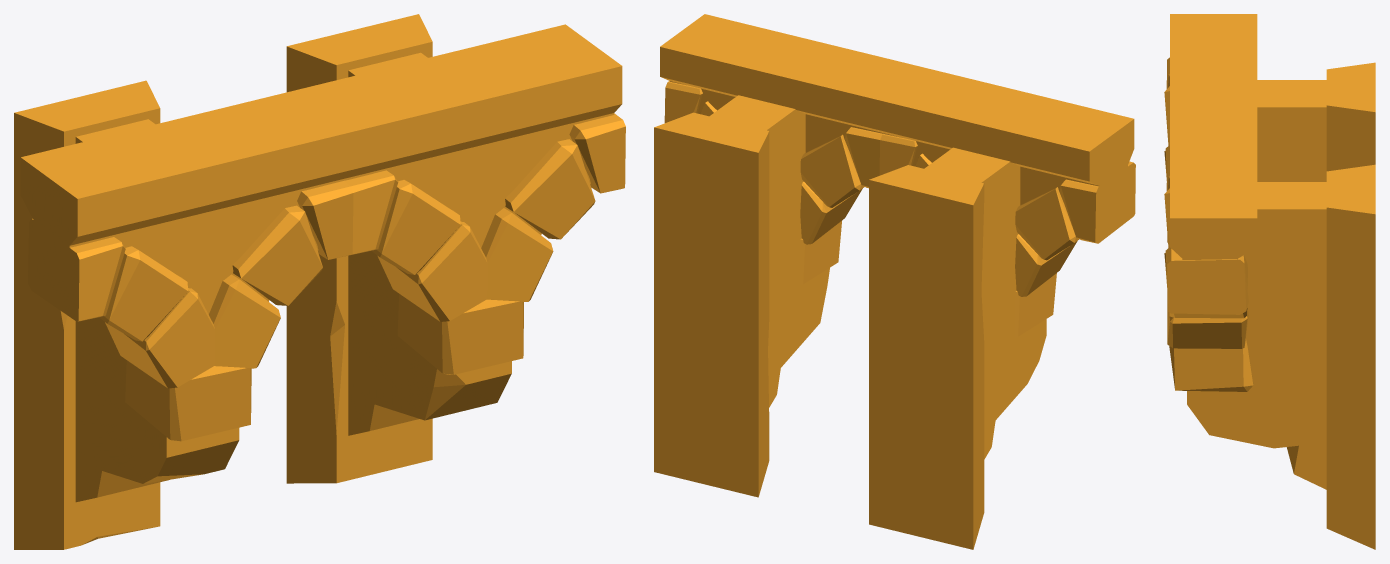
The model's file is SM_Machicolations_A_Fantasy.fbx.
The picture shows the model from 3 angles, left to right: view 1: azimuth 30°, elevation 25°; view 2: azimuth 150°, elevation 25°; view 3: azimuth 270°, elevation 25°; orthographic projection. The views are drawn at different scales.
Visible parts, largest first — view 1: SM_Machicolations_A_Fantasy; view 2: SM_Machicolations_A_Fantasy; view 3: SM_Machicolations_A_Fantasy.
Part boxes in pixels (left/top/right/bottom): SM_Machicolations_A_Fantasy: left=14, top=14, right=625, bottom=549; SM_Machicolations_A_Fantasy: left=654, top=14, right=1135, bottom=549; SM_Machicolations_A_Fantasy: left=1164, top=14, right=1375, bottom=549.
Size of the model in its own units: 3.01 by 2.45 by 1.31.
